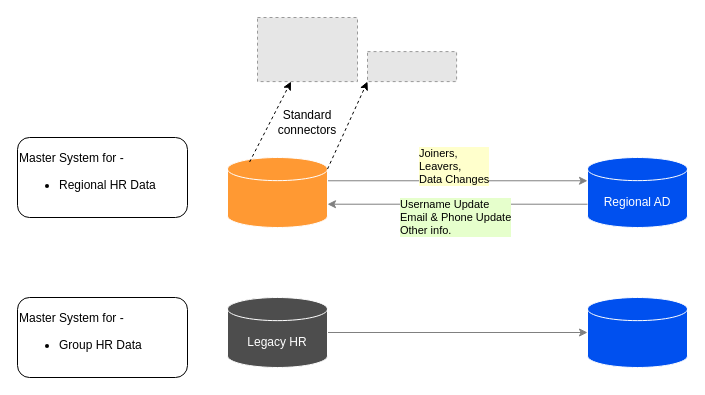
The diagram is 705 pixels wide and 395 high, and some of its shapes have lost their labels. Grey dashed boxes stand in for pictures. The box of each missing label's shape, as (x1, y1, x2, y2) in pixels:
Group AD: (586, 296, 688, 368)
Workday HR: (226, 156, 328, 228)
